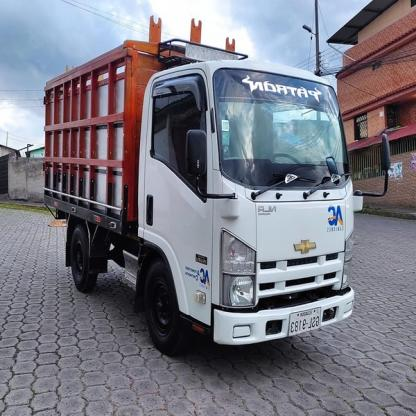Placa: (285, 304, 326, 340)
